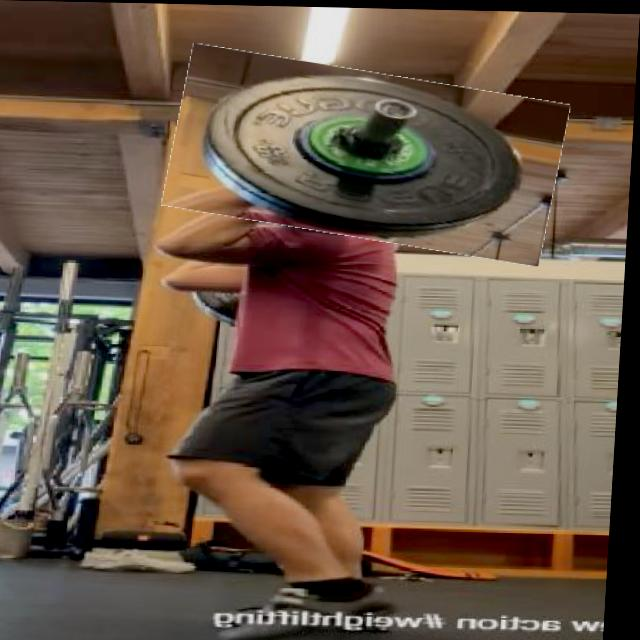barbell: (167, 56, 569, 253)
